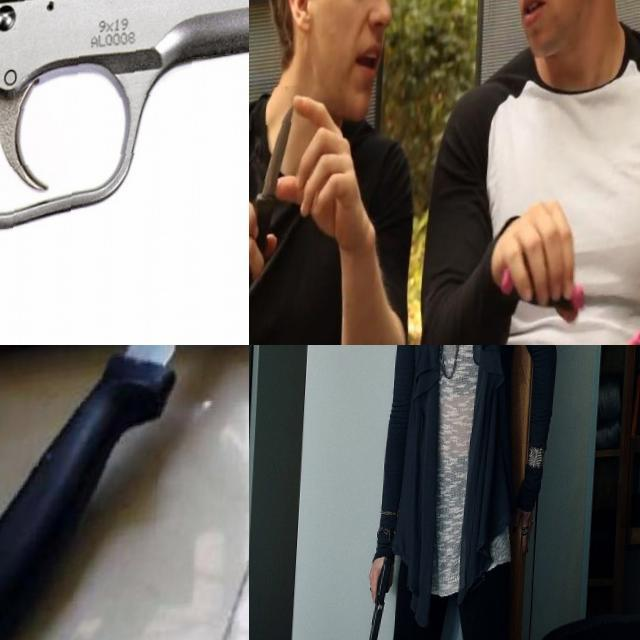-: (0, 345, 249, 640), (249, 89, 307, 280)
gun-knife-thesis - v11 Yolov5 augmented: (0, 0, 249, 345), (368, 555, 403, 640)
